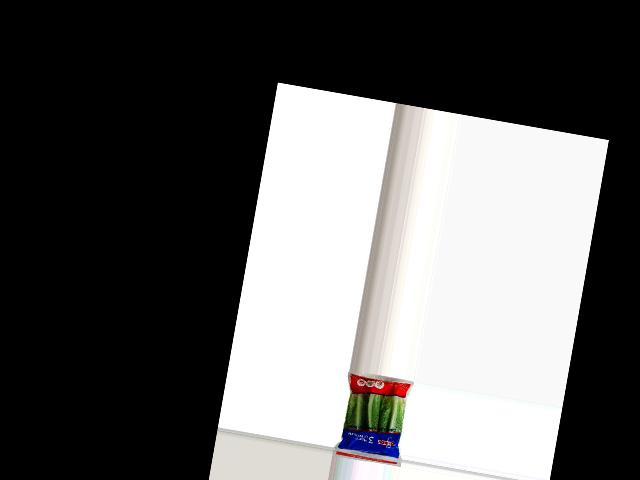lettuce: (336, 370, 412, 460)
